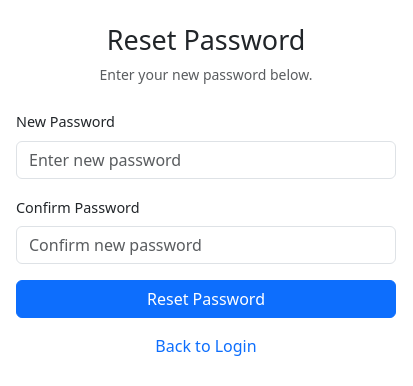
Test case: ResetPasswordPage › should display password validation errors
In the password field with placeholder "Enter new password": (206, 160) [16, 141, 396, 179], type "weak"
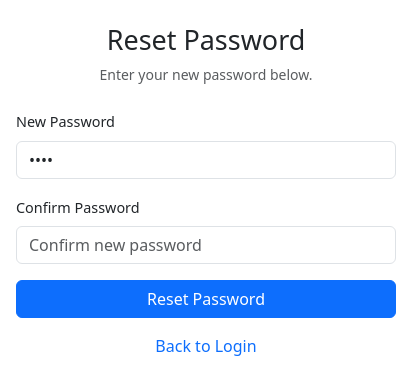
In the password field with placeholder "Confirm new password": (206, 245) [16, 226, 396, 264], type "weak"
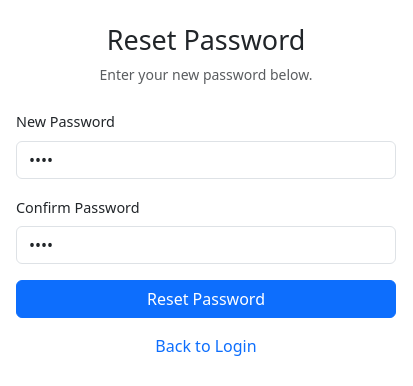
Click the button "Reset Password": (206, 299) [16, 280, 396, 318]
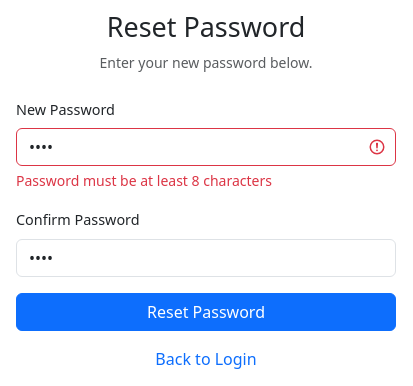
Now the text "Password must be at least 8 characters" is shown, box [16, 171, 272, 190]
